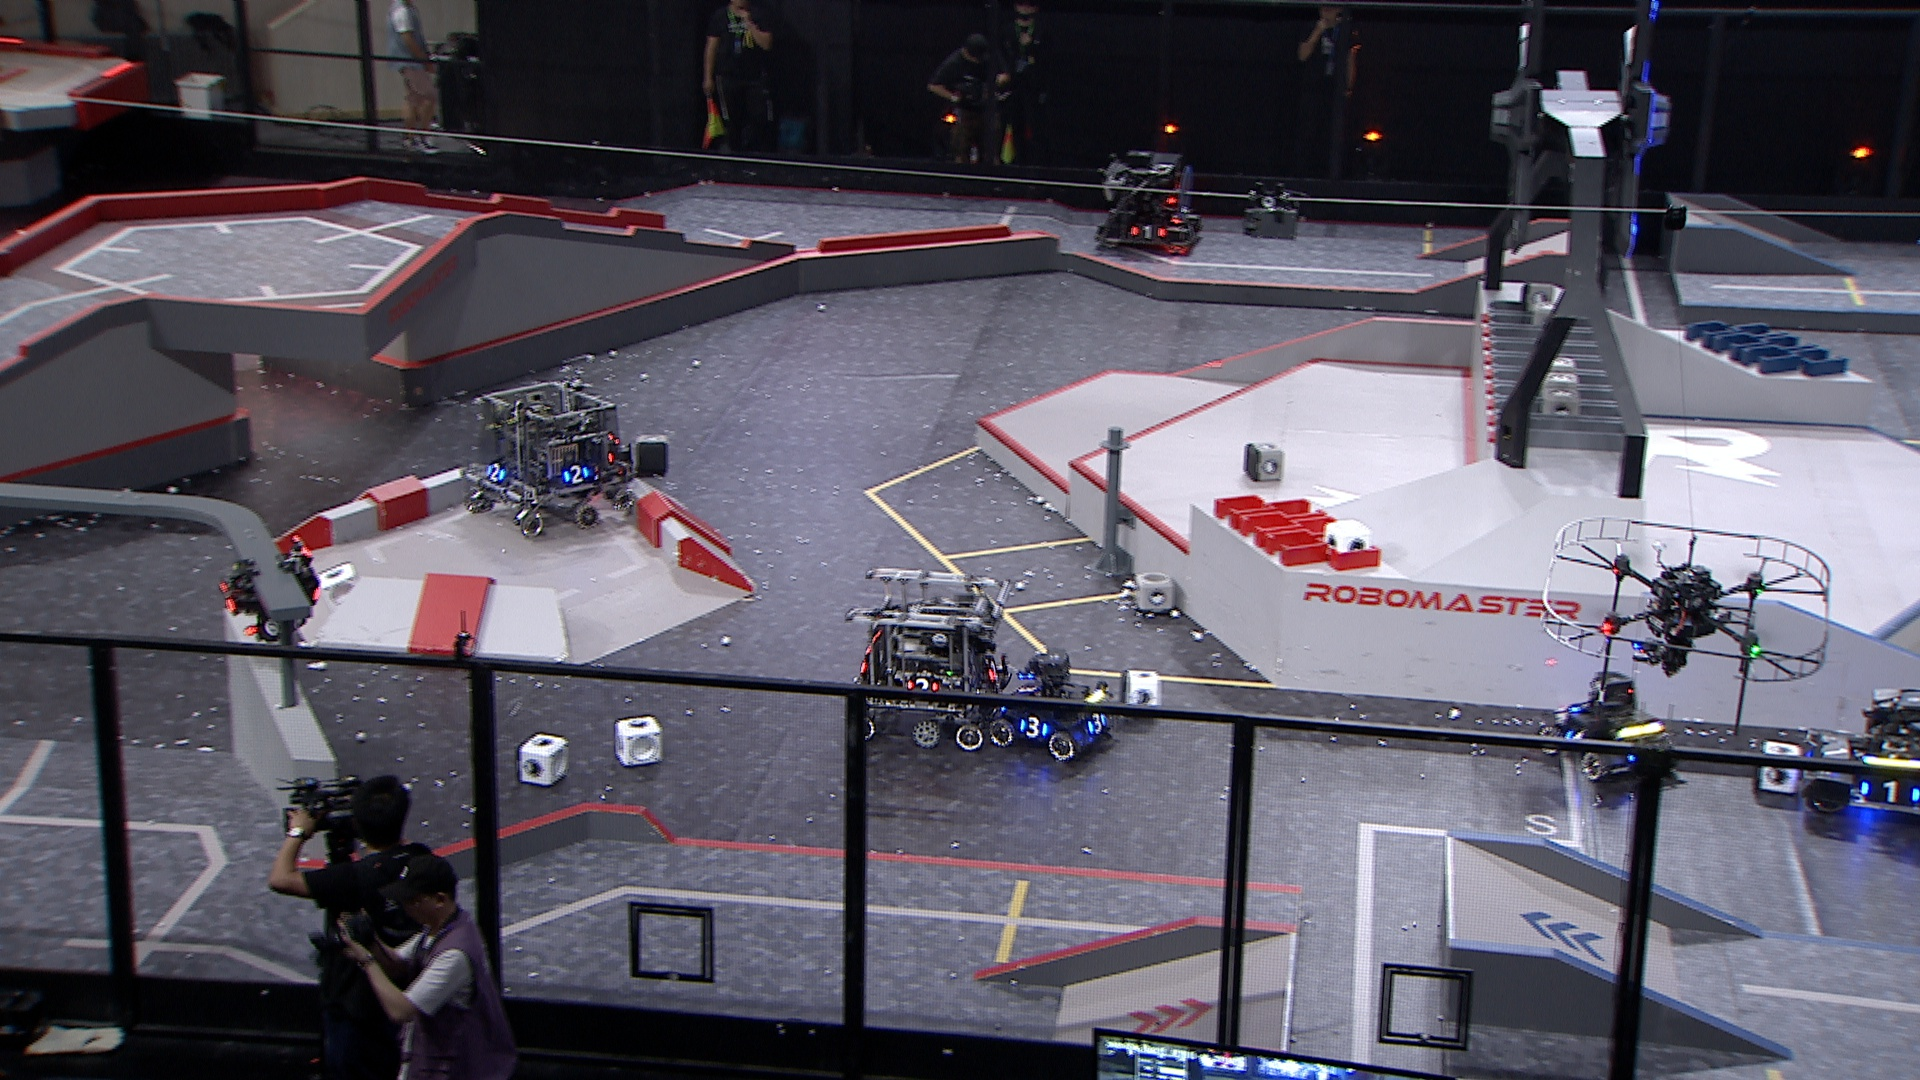armor: (1858, 777, 1920, 808), (1127, 225, 1171, 243), (218, 578, 237, 615), (1019, 713, 1048, 738), (562, 463, 593, 485), (1826, 738, 1851, 764), (905, 676, 939, 694), (1087, 712, 1110, 736), (485, 462, 509, 484), (1013, 683, 1039, 699), (1565, 728, 1590, 744), (986, 659, 1001, 684)
car: (844, 566, 1010, 750), (458, 378, 632, 541), (1795, 688, 1920, 837), (1532, 669, 1675, 782), (988, 647, 1114, 764), (1092, 148, 1200, 258)
watcher: (218, 531, 320, 645)
